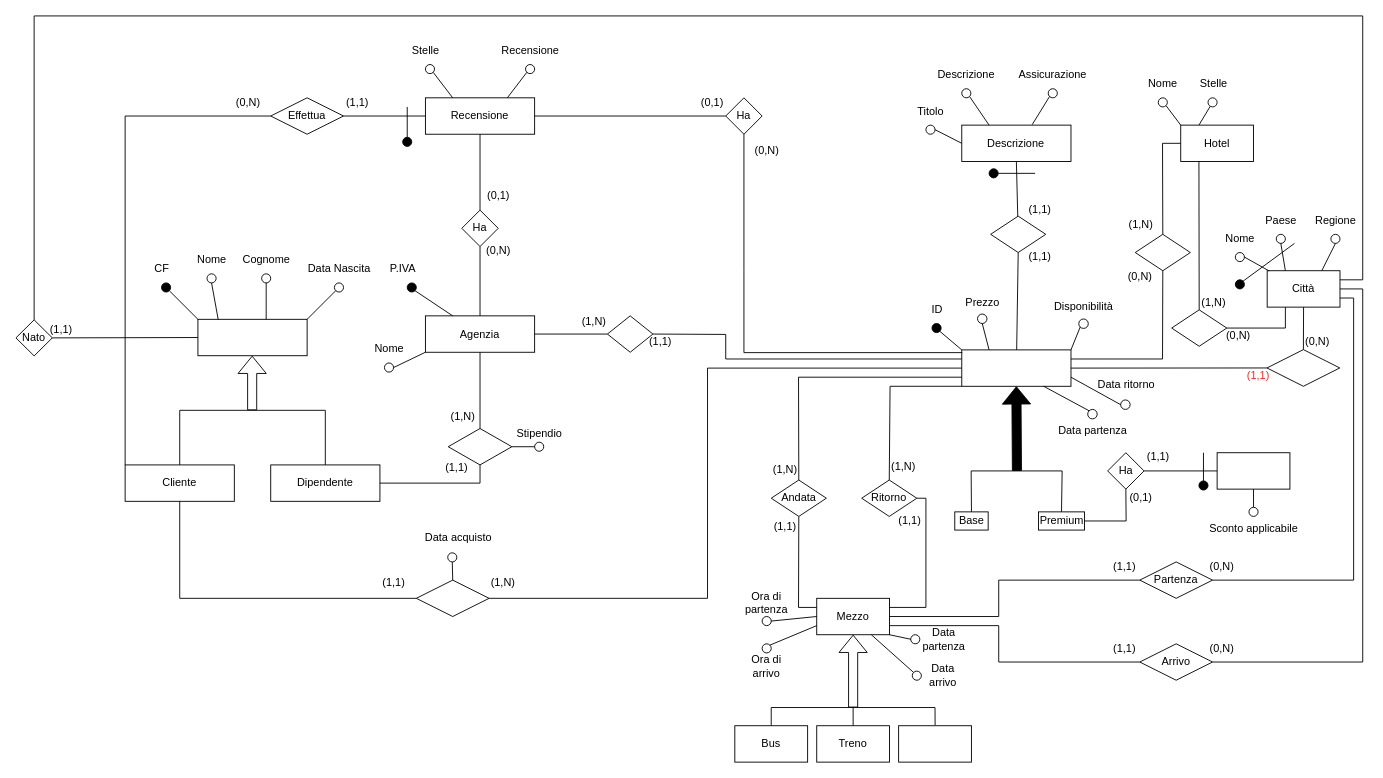
Some shapes in this 1383 by 778 pixel diagram are drawn without their labels. The shapes that lost their labels are listed below. From the top down, each one's box as (x1, y1, x2, y2) in pixels, then its label:
(990, 215, 1046, 253): Tiene
(1134, 233, 1190, 271): Soggiorno
(197, 318, 307, 356): Persona Anagrafica
(607, 315, 653, 352): Offre
(1171, 309, 1227, 346): Luogo
(961, 349, 1071, 386): Pacchetto
(1266, 349, 1340, 386): Destinazione
(447, 428, 512, 465): Lavora
(1216, 452, 1290, 489): Sconto
(415, 579, 489, 617): Prenota
(898, 725, 971, 762): Aereoplano
